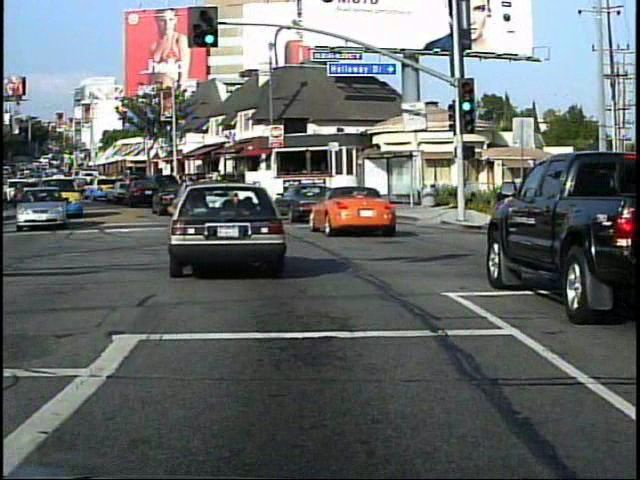person: (571, 186, 594, 247), (490, 182, 511, 231)
